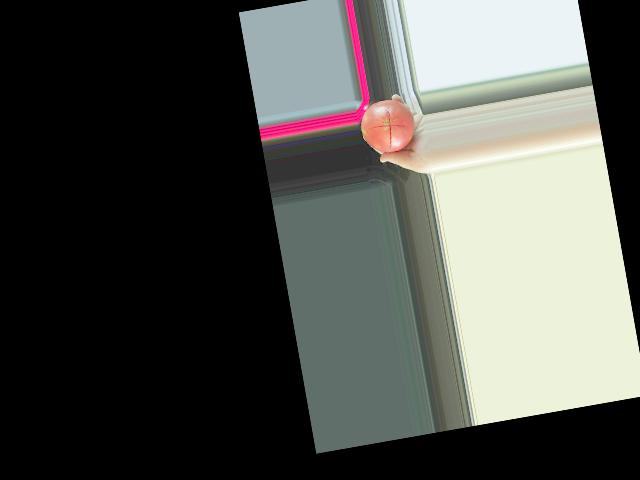tomato: (357, 95, 419, 156)
